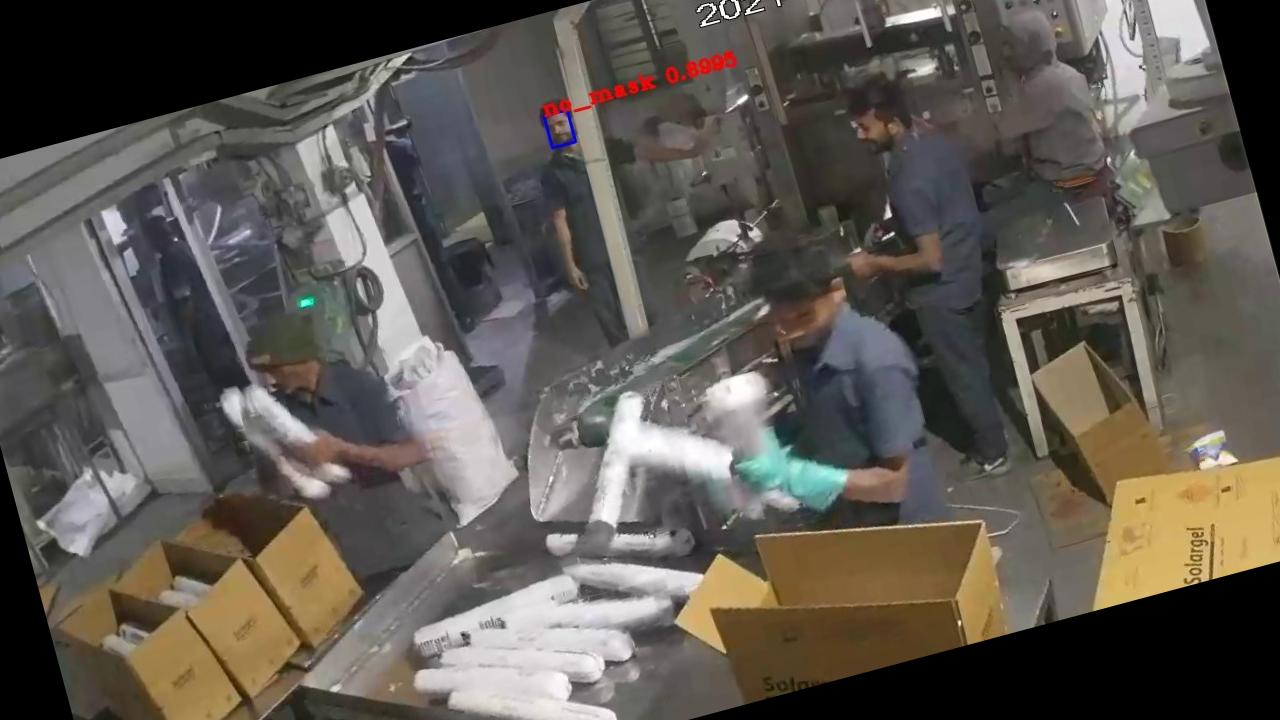Gloves: (721, 406, 878, 546)
No-gloves: (273, 387, 463, 521), (824, 212, 969, 316), (526, 184, 614, 316)
